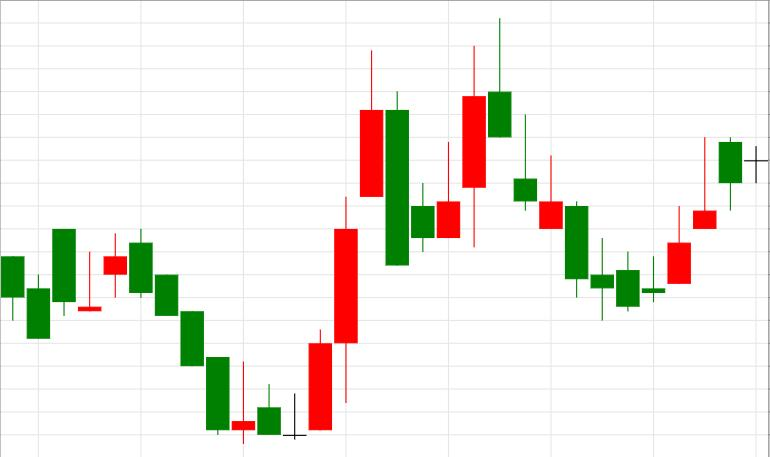three_white_soldiers_rise: (129, 49, 383, 444)
